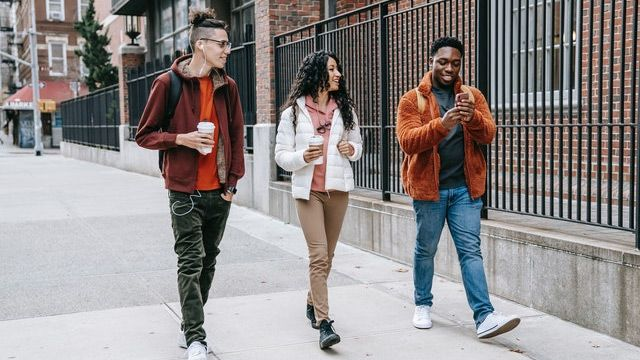face: (186, 13, 233, 72), (427, 35, 465, 89), (302, 50, 347, 94)
